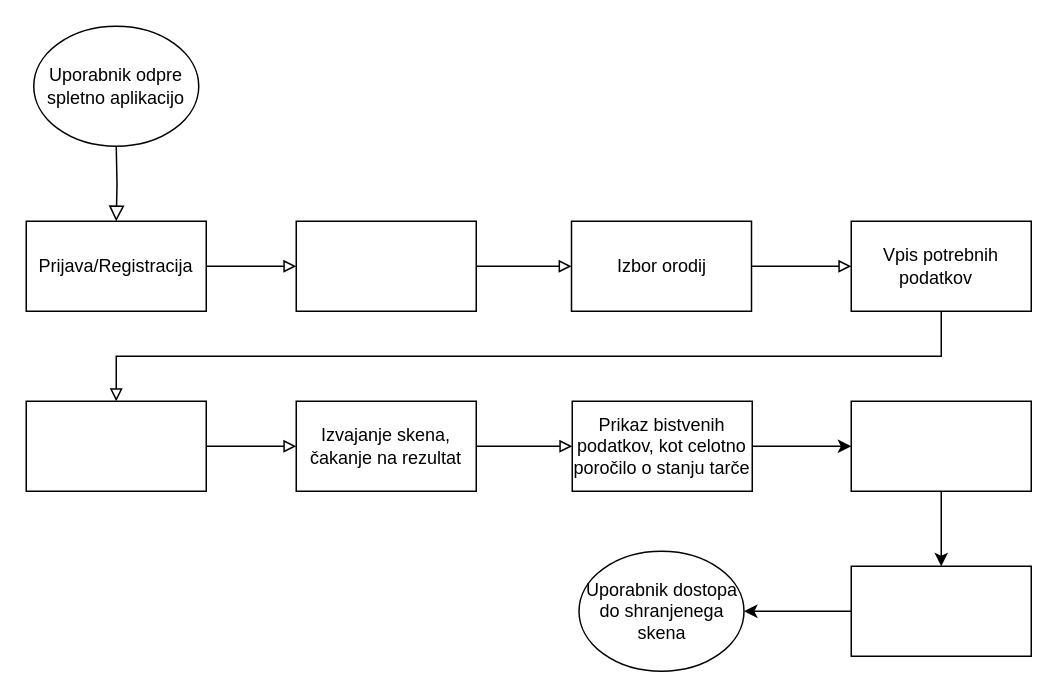
The diagram is 1058 pixels wide and 698 high, and some of its shapes have lost their labels. The centre of each missing label's shape, as x and y in pixels:
Klik na gumb "New scan": (x=385, y=265)
Ogled rezultatov: (x=940, y=610)
Prikaz zastavic iz varnostne analize: (x=940, y=445)
Začetek skena z klikom na "Start scanning": (x=115, y=445)
